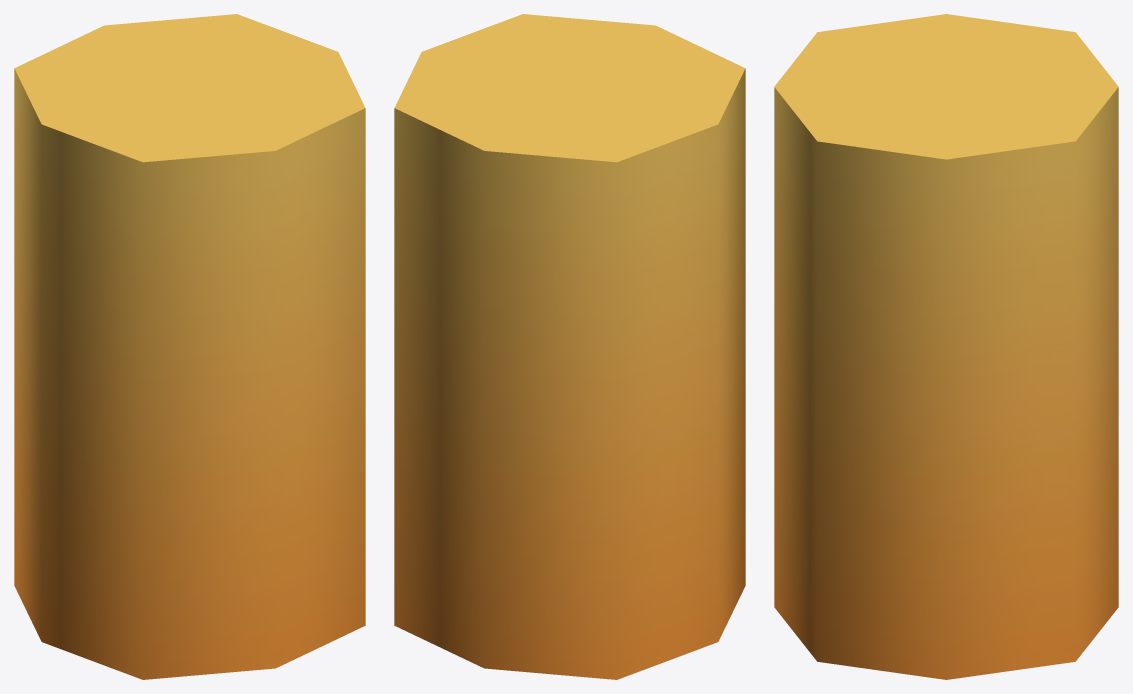
The model's file is bullet-foam-thick.glb.
The picture shows the model from 3 angles, left to right: view 1: azimuth 30°, elevation 25°; view 2: azimuth 150°, elevation 25°; view 3: azimuth 270°, elevation 25°; orthographic projection.
Parts seen in each view (by area): view 1: bullet-foam-thick; view 2: bullet-foam-thick; view 3: bullet-foam-thick.
Boxes of the visible parts, x1,y1,x2,y2 form: bullet-foam-thick: [14, 14, 365, 679]; bullet-foam-thick: [394, 14, 745, 679]; bullet-foam-thick: [774, 14, 1118, 679].
Size of the model in its own units: 0.03 by 0.05 by 0.03.
1 material, 1 textured.
